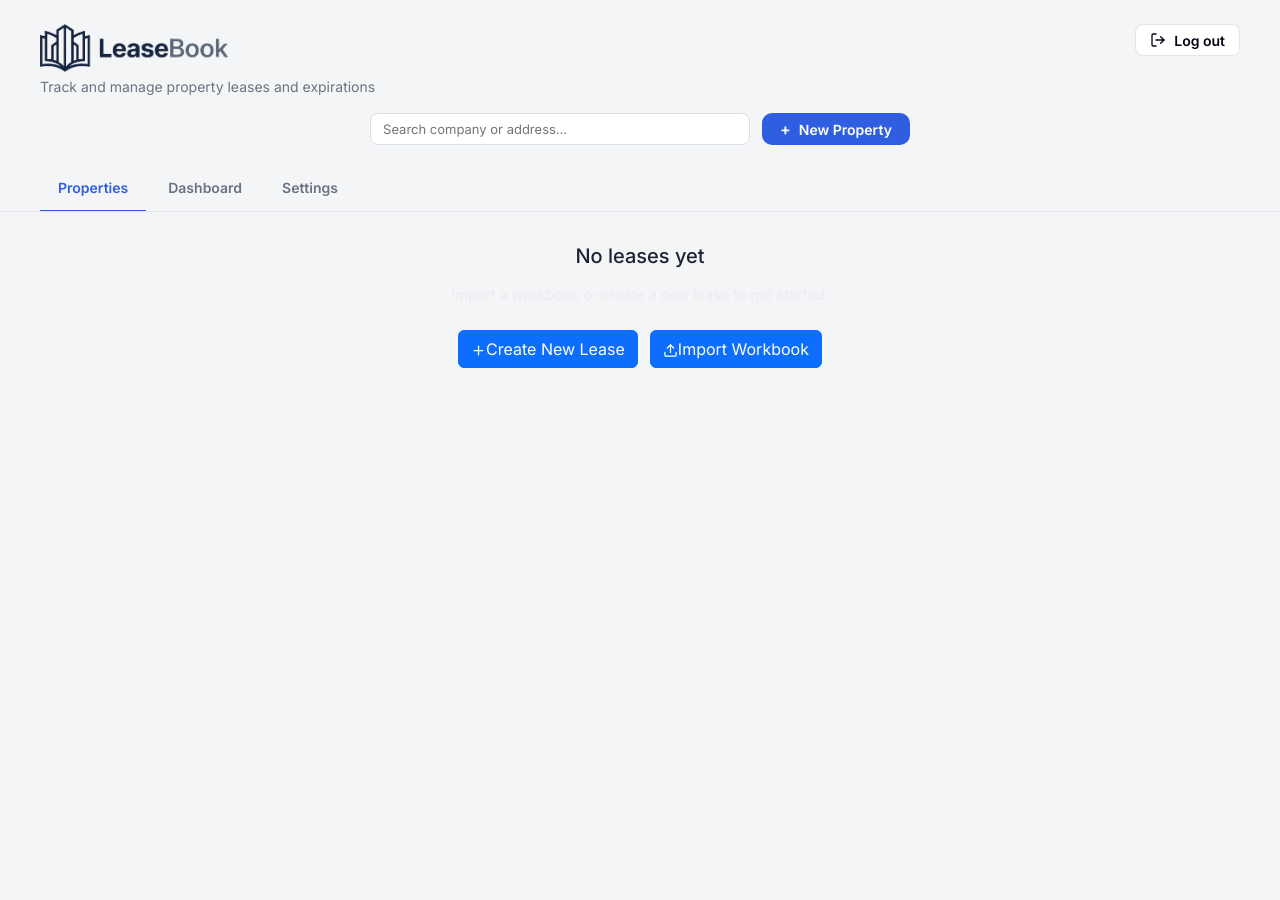
Test: App auth flow › requires adding a password before passkeys can be removed
Click the button "Settings": (310, 188) [264, 165, 356, 212]
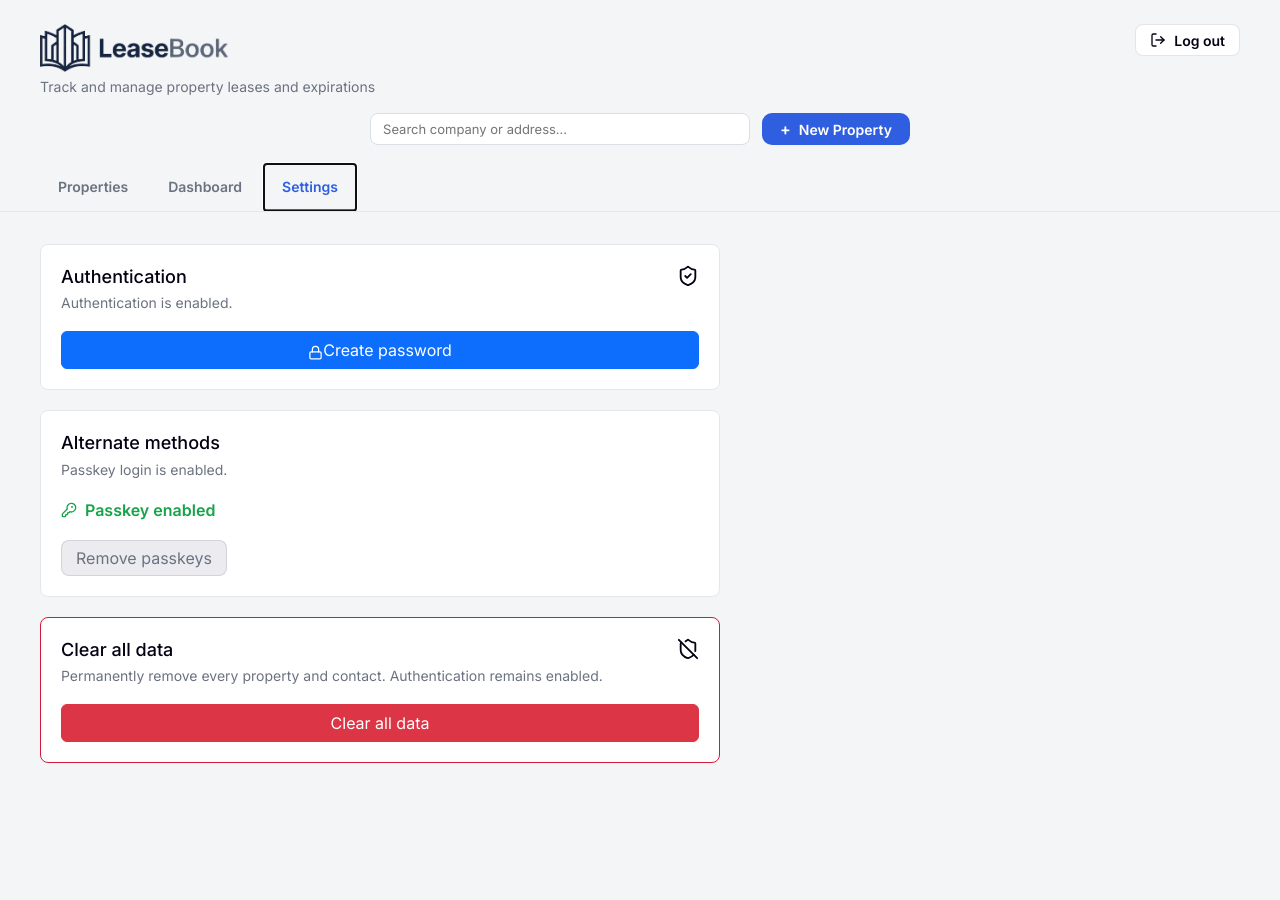
Click the button "Remove passkeys": (144, 558) [61, 540, 227, 576]
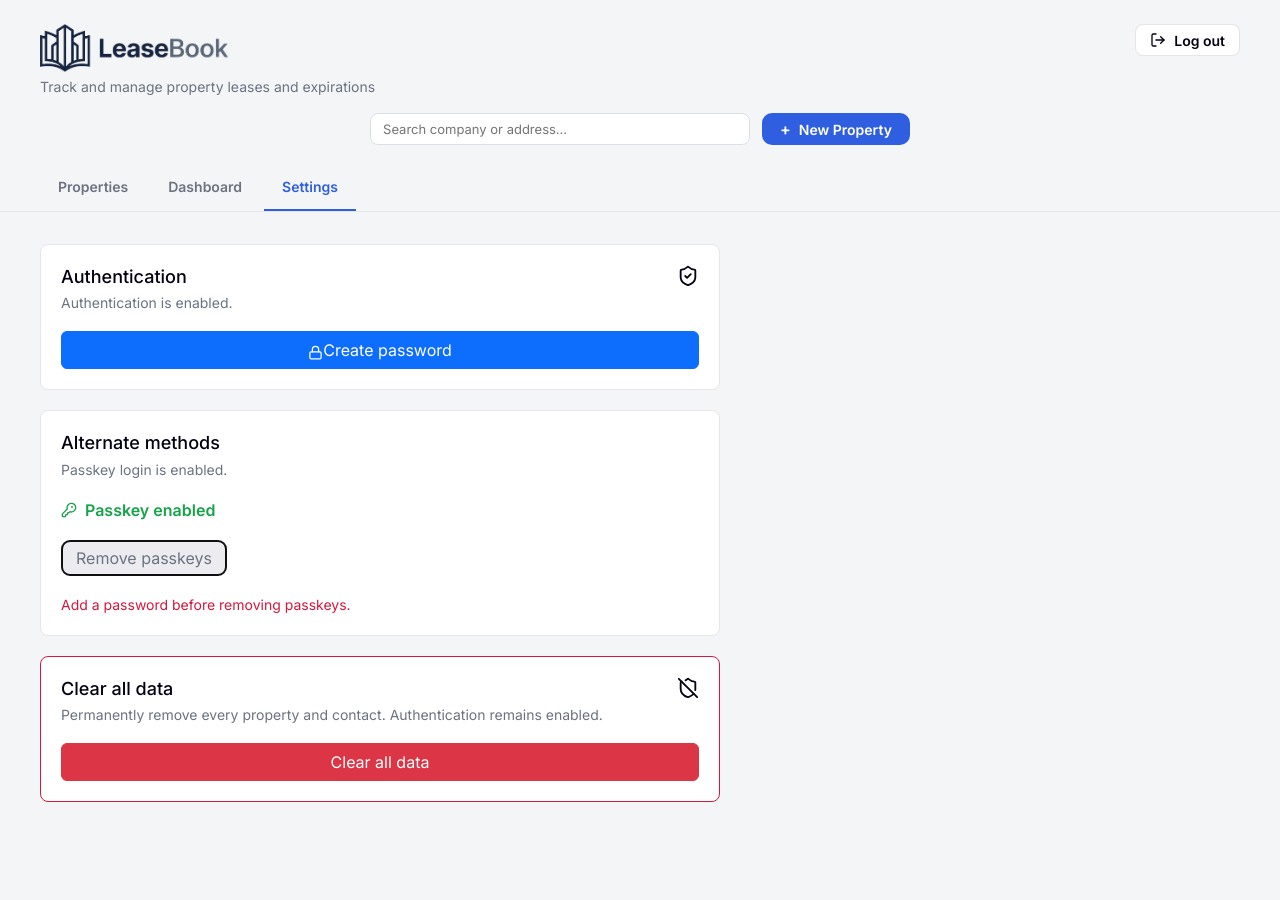
Expected: the text "Add a password before removing passkeys." is shown, [61, 596, 351, 613]
